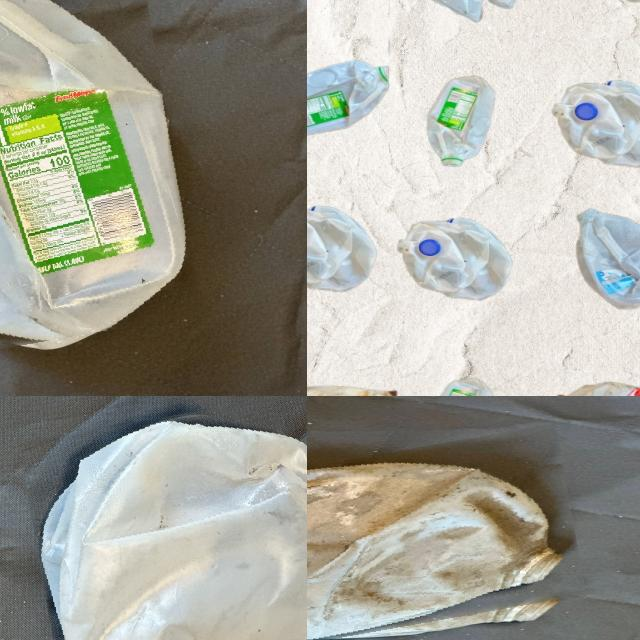milk-jug: (35, 396, 307, 640), (0, 0, 186, 355), (307, 444, 580, 640), (398, 212, 511, 302), (307, 57, 395, 147), (555, 77, 640, 165), (419, 72, 495, 168), (569, 209, 640, 307), (307, 199, 376, 297), (429, 373, 489, 396)
